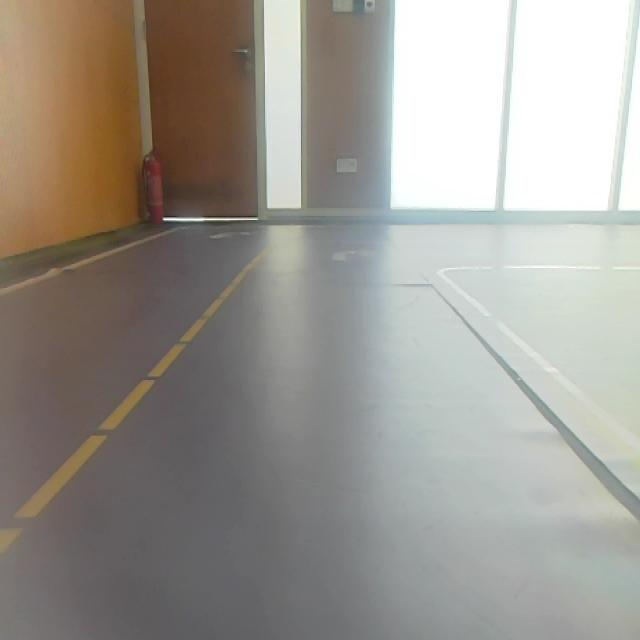left_lane: (1, 247, 265, 556)
right_lane: (439, 272, 640, 463)
